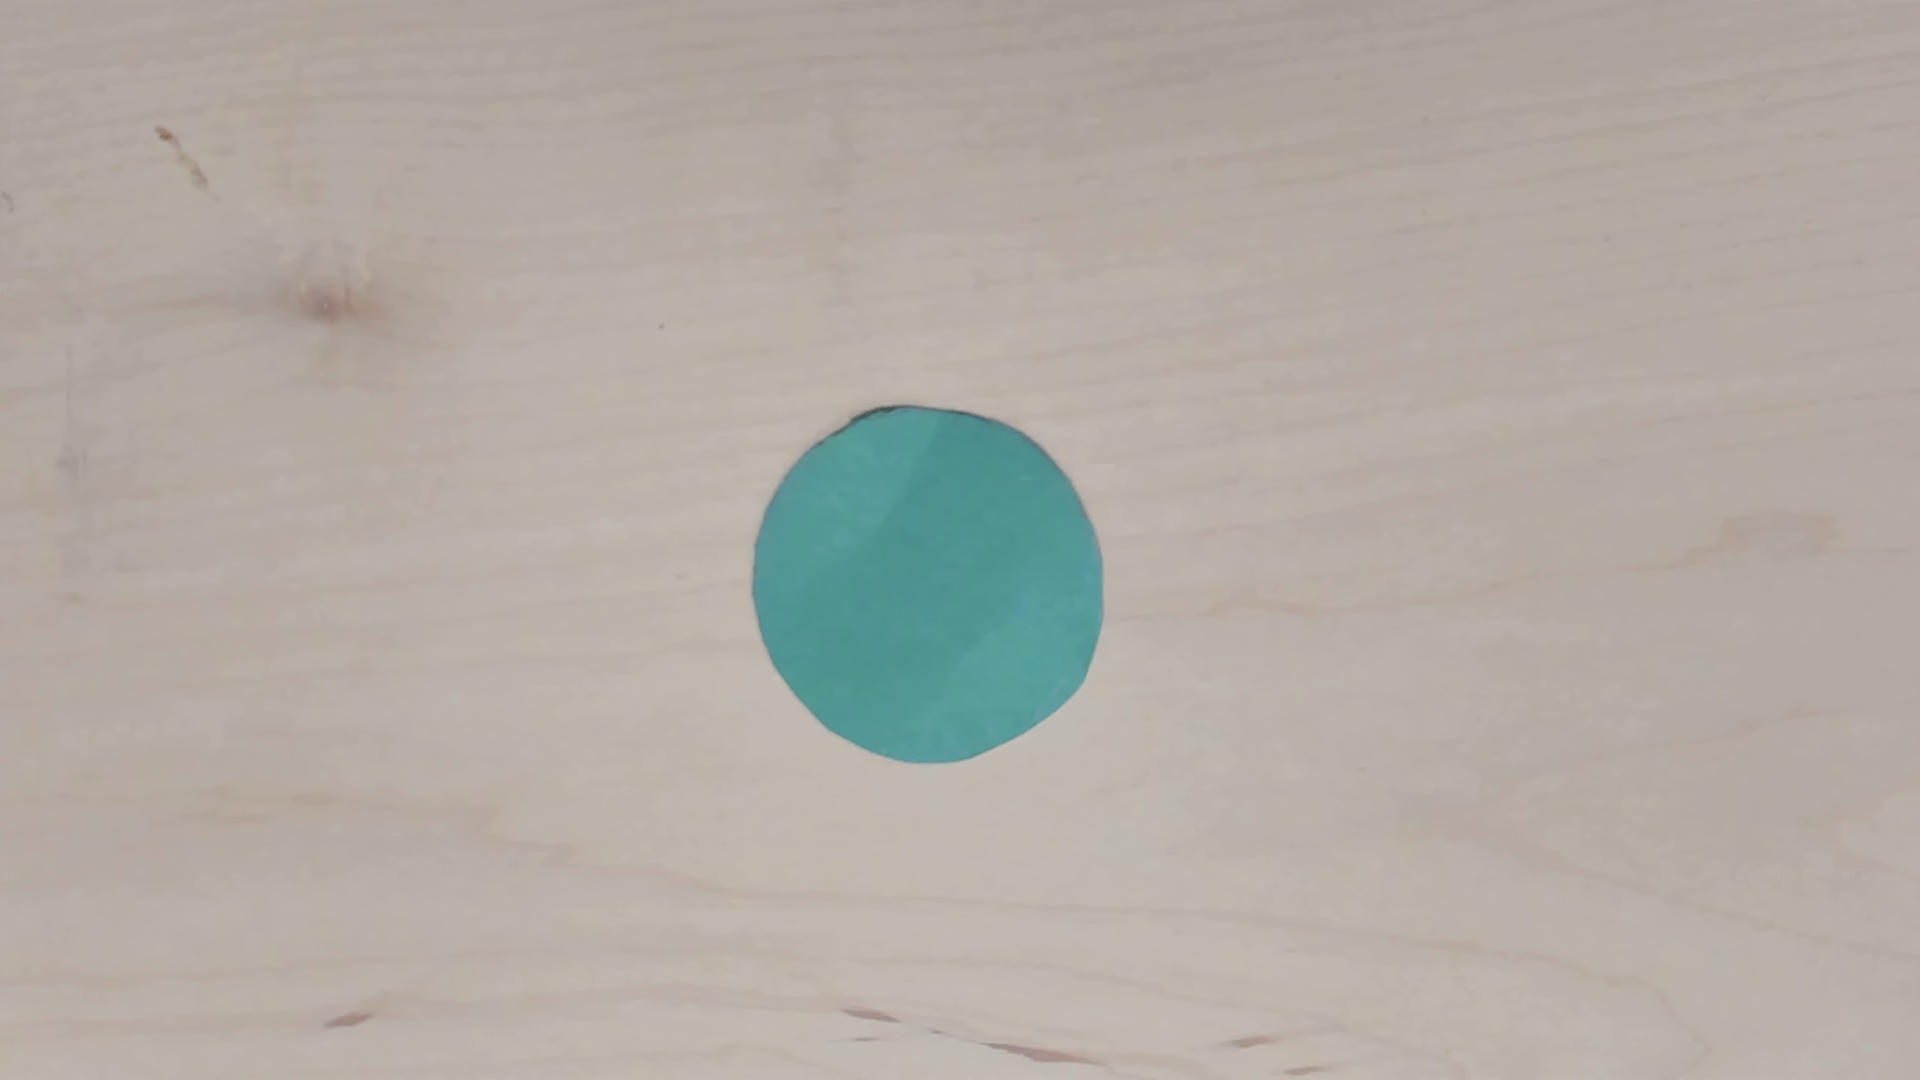GC: (749, 404, 1106, 767)
